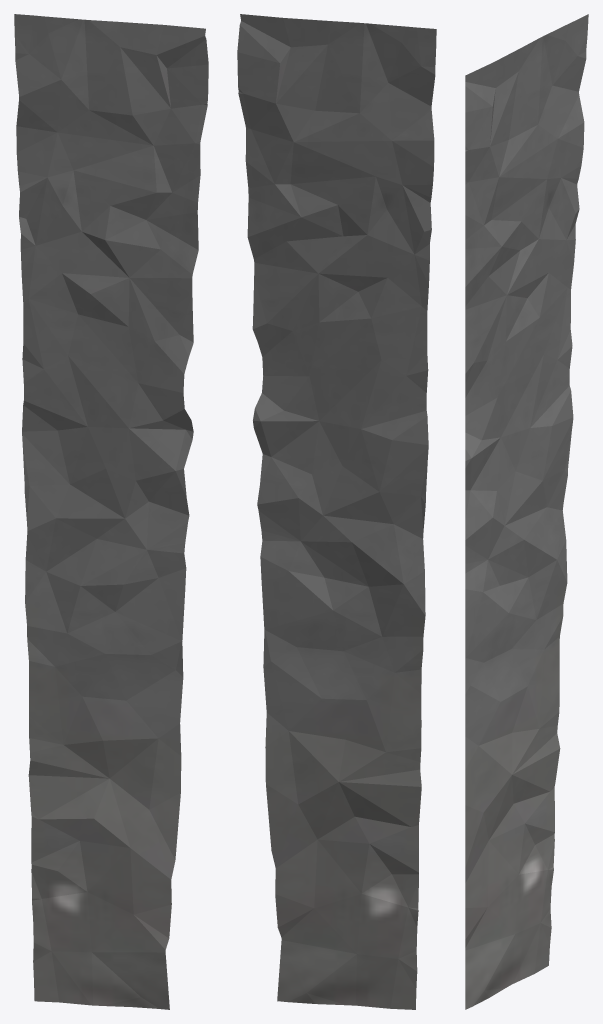
The picture shows the model from 3 angles, left to right: view 1: azimuth 30°, elevation 25°; view 2: azimuth 210°, elevation 25°; view 3: azimuth 270°, elevation 25°; orthographic projection. The views are drawn at different scales.
Bounding box in the file's own units: 0.1186 × 0.8374 × 0.0983.
1 material, 1 textured.
